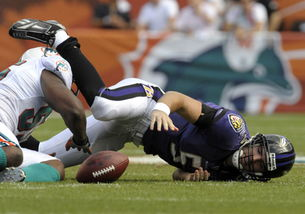fall: (42, 10, 297, 182)
